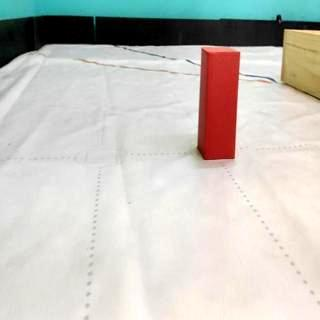redbox: (198, 44, 240, 160)
